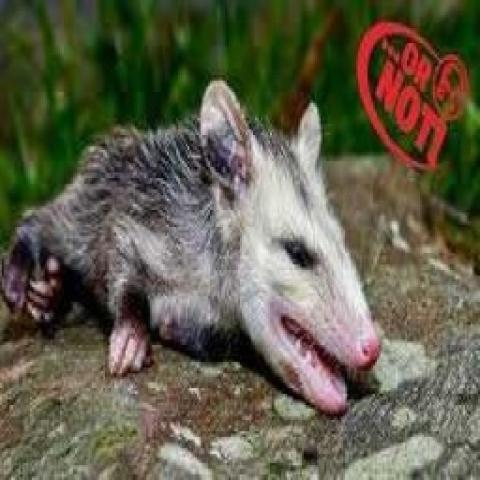small_animal: (0, 81, 386, 418)
